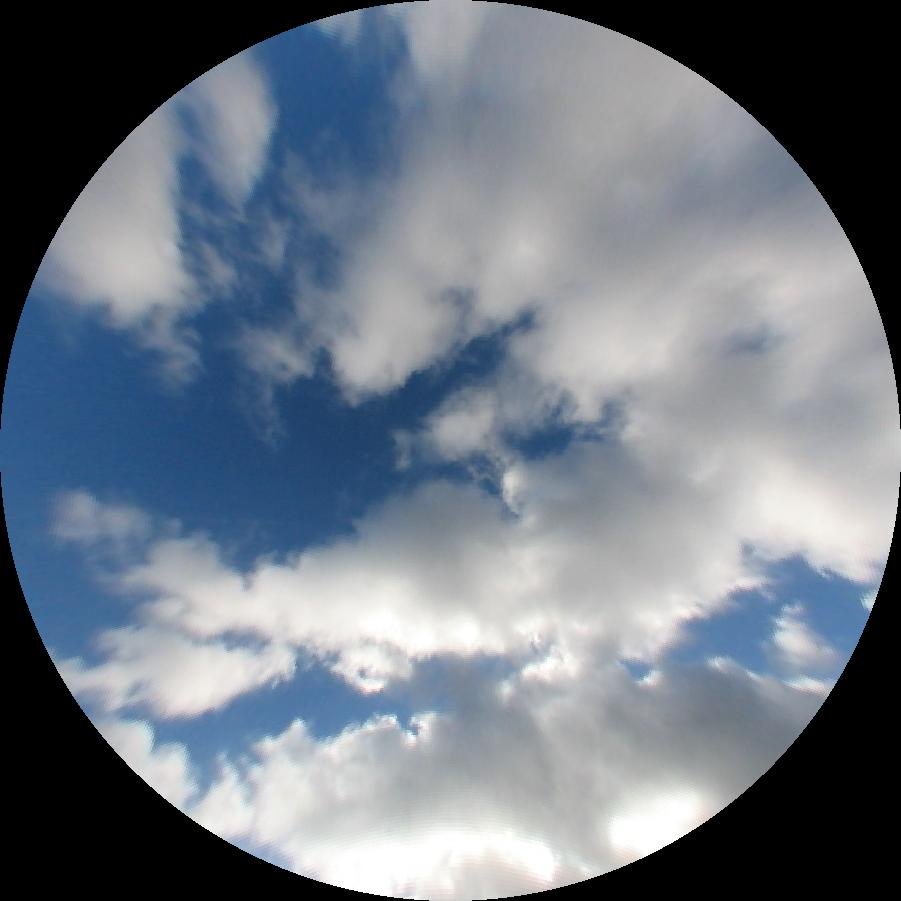contrail maybe: (205, 394, 214, 411)
parasite: (183, 518, 290, 524)
